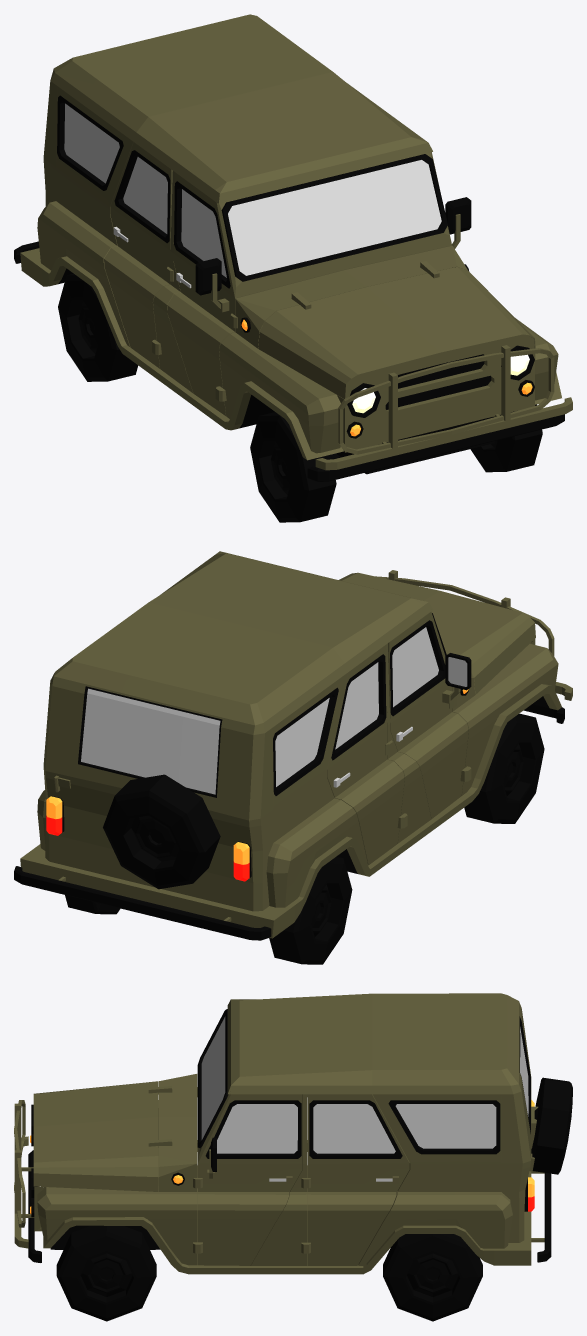
The model's file is soviet-offroad.glb.
3 views of the same model, one above another, from view 1: azimuth 30°, elevation 25°; view 2: azimuth 150°, elevation 25°; view 3: azimuth 270°, elevation 25° (orthographic). The views are drawn at different scales.
Parts seen in each view (by area): view 1: Vehicle_soviet-offroad.004, Vehicle_soviet-offroad.002, Vehicle_soviet-offroad.003, Vehicle_soviet-offroad; view 2: Vehicle_soviet-offroad.004, Vehicle_soviet-offroad.002, Vehicle_soviet-offroad.003, Vehicle_soviet-offroad.001; view 3: Vehicle_soviet-offroad.004, Vehicle_soviet-offroad, Vehicle_soviet-offroad.001.
Boxes of the visible parts, left/top/right/bottom form: Vehicle_soviet-offroad.004: left=14, top=14, right=572, bottom=481; Vehicle_soviet-offroad.002: left=250, top=412, right=336, bottom=522; Vehicle_soviet-offroad.003: left=58, top=273, right=138, bottom=381; Vehicle_soviet-offroad: left=470, top=404, right=542, bottom=472; Vehicle_soviet-offroad.004: left=14, top=551, right=572, bottom=940; Vehicle_soviet-offroad.002: left=464, top=713, right=544, bottom=823; Vehicle_soviet-offroad.003: left=269, top=856, right=352, bottom=964; Vehicle_soviet-offroad.001: left=65, top=895, right=120, bottom=914; Vehicle_soviet-offroad.004: left=14, top=993, right=572, bottom=1274; Vehicle_soviet-offroad: left=56, top=1225, right=156, bottom=1321; Vehicle_soviet-offroad.001: left=383, top=1234, right=482, bottom=1321.
Bounding box in the file's own units: 2.96 × 2.95 × 6.18.
